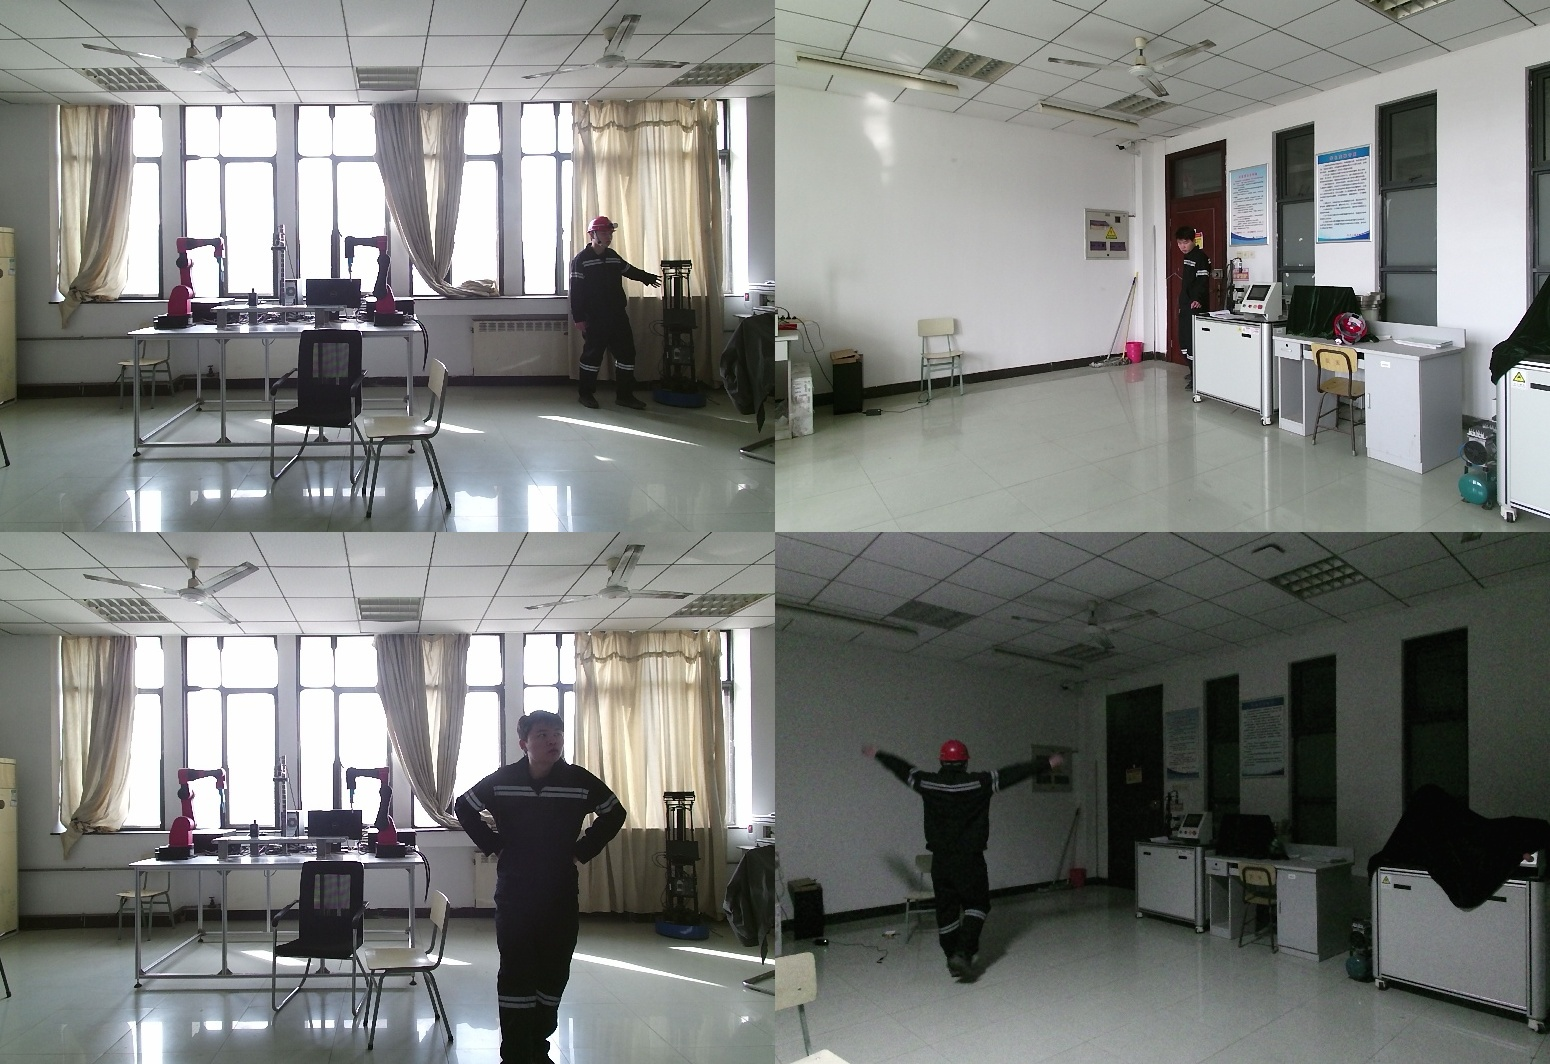person: (459, 715, 639, 1063), (857, 741, 1069, 987), (568, 215, 662, 415), (1176, 230, 1220, 318)
